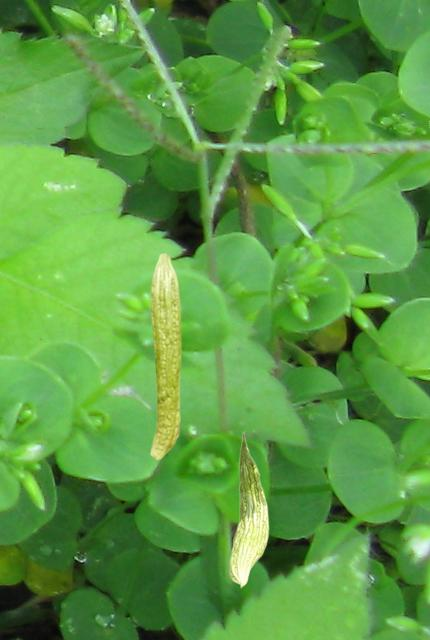ampalaya: (148, 251, 183, 461), (227, 431, 270, 588)
